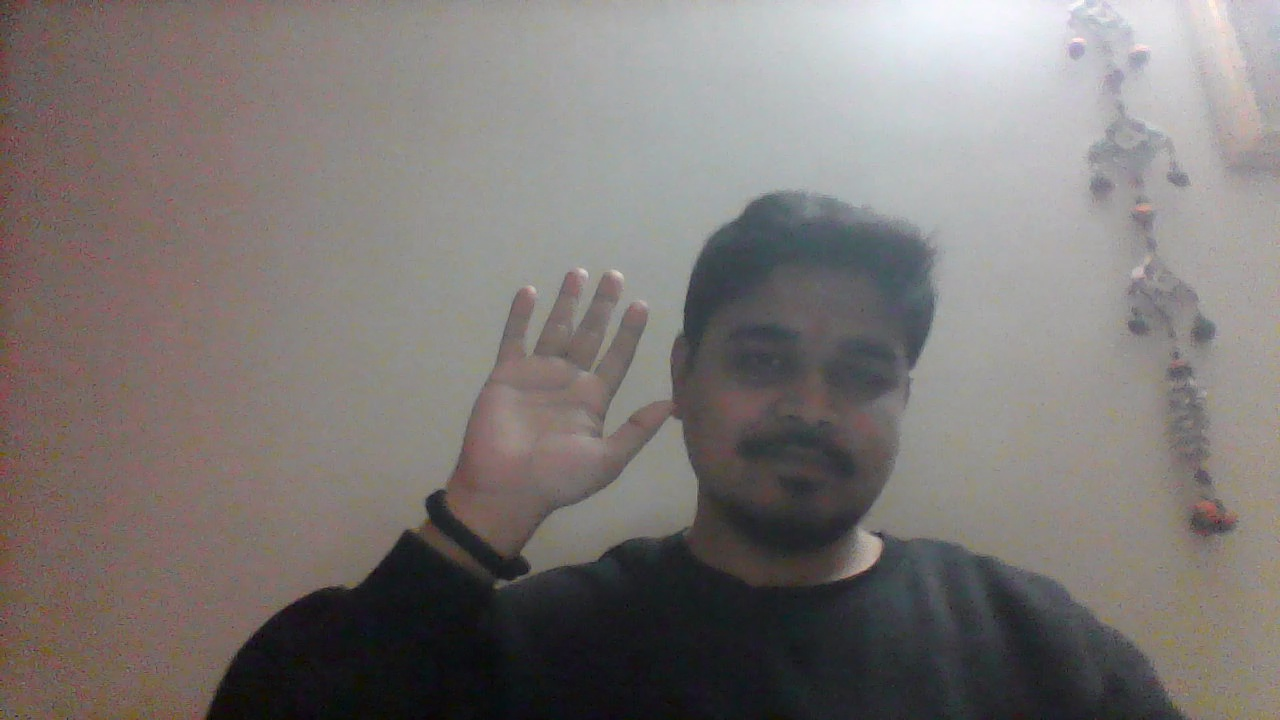Hello: (450, 266, 672, 509)
